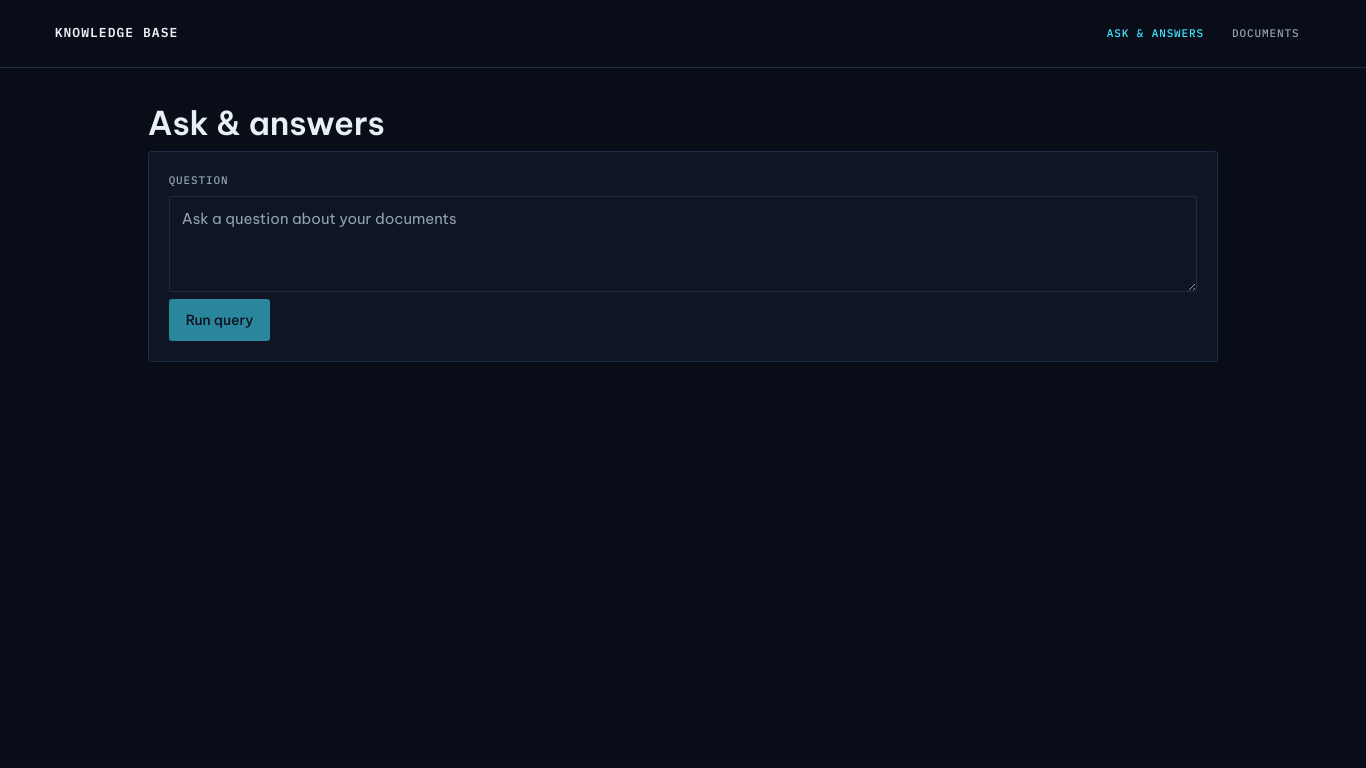
Test case: App — delete a document › shows an error notice and keeps the row when the delete fails
The image size is (1366, 768).
Step 1. Click the link "Documents" → (1266, 33), box [1232,26,1299,40]
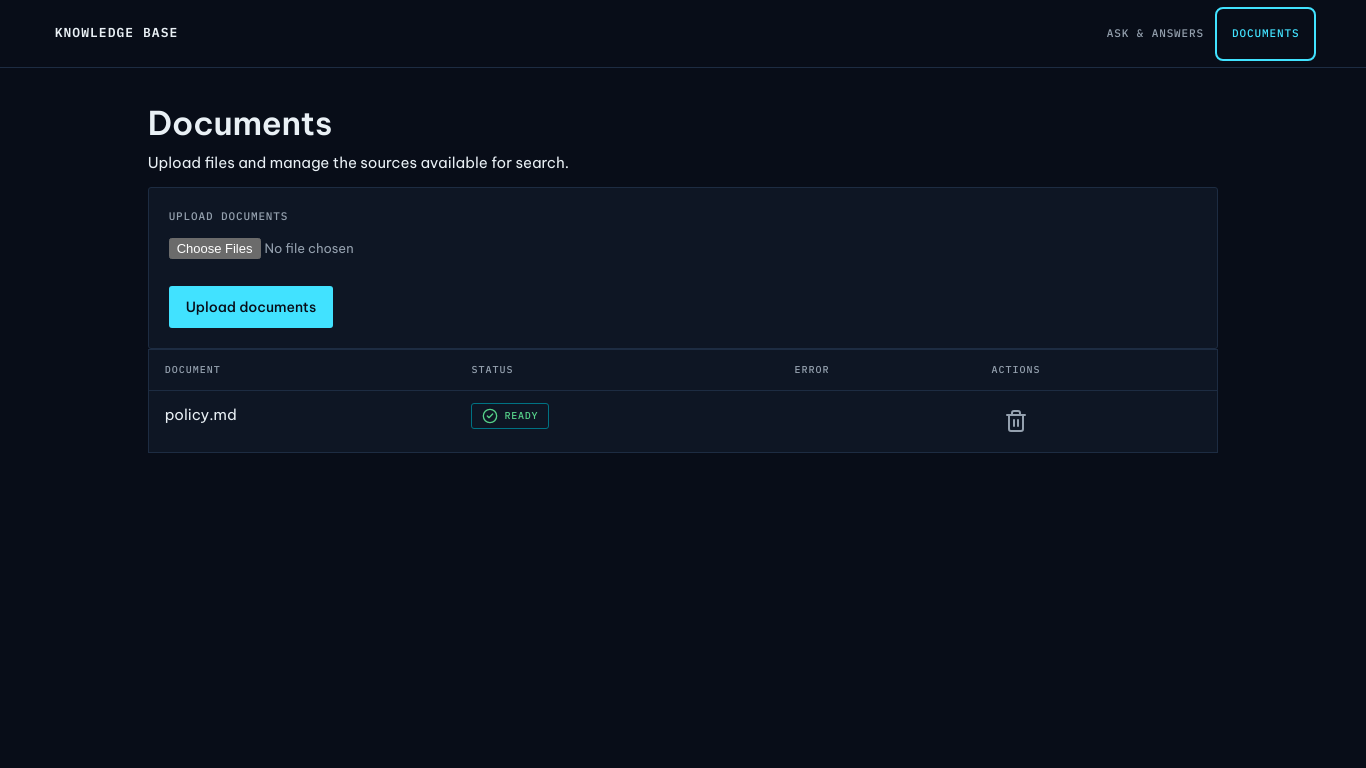
Step 2. Click the button named "delete policy.md" → (1016, 421), box [992,403,1042,439]
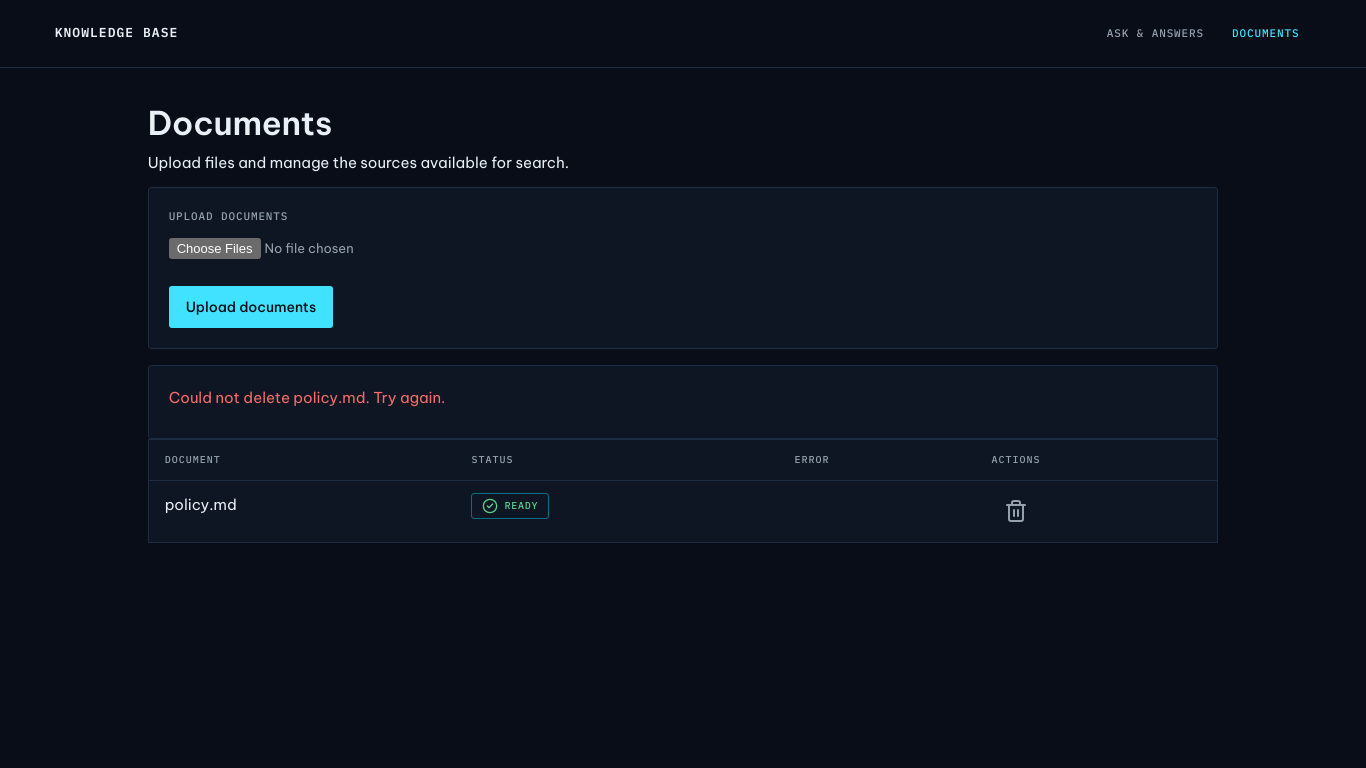
Now the button named "delete policy.md" is shown, box [992,493,1042,529]
Now the message "Could not delete policy.md. Try again." is shown, box [148,365,1218,439]
